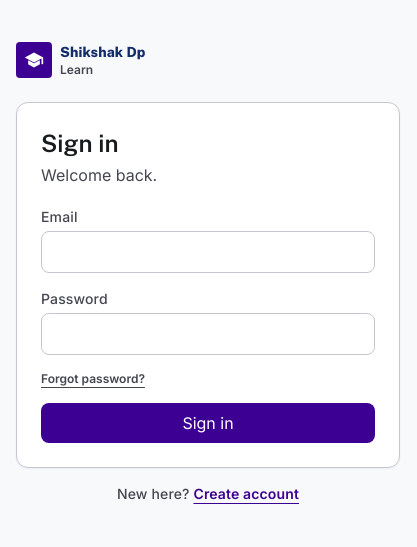
Test case: LoginPage › surfaces a server 401 inline
This screenshot has width=417, height=547.
Type "sam@example.com" into the field labelled "Email". click: (208, 252)
box: x1=41 y1=231 x2=375 y2=273
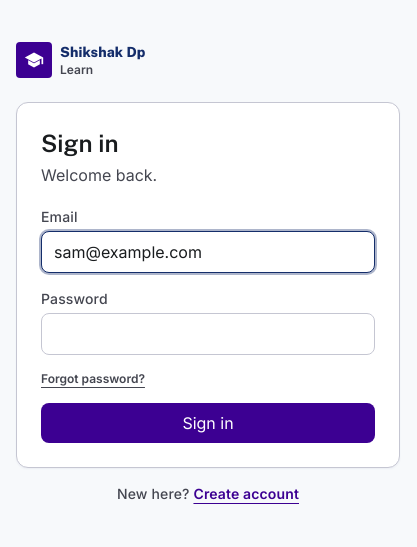
Type "whatever-1234" into the password field labelled "Password". click: (208, 334)
box: x1=41 y1=313 x2=375 y2=355
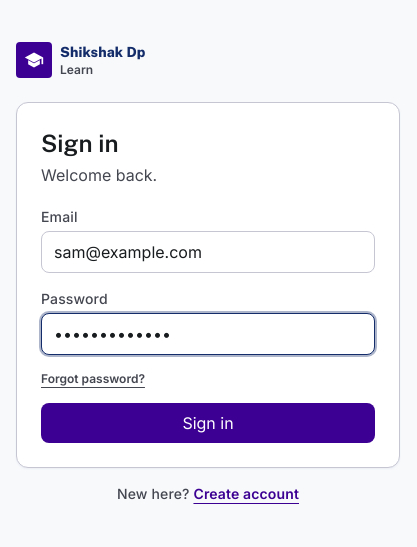
Click the button with test id "btn-sl2". click: (208, 423)
box: x1=41 y1=403 x2=375 y2=443
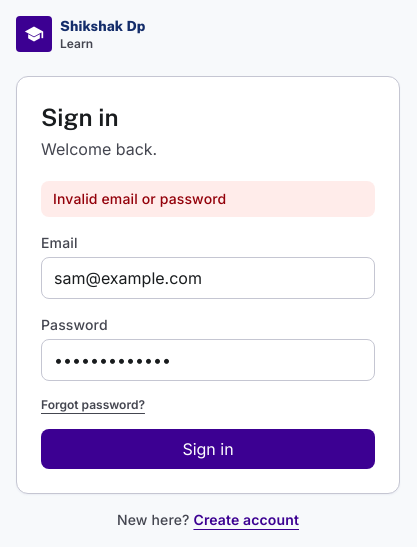
Expected: the message reads "Invalid email or password", x1=53 y1=190 x2=226 y2=207
